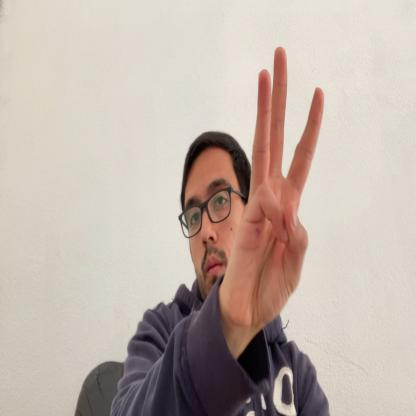W: (226, 46, 324, 338)
